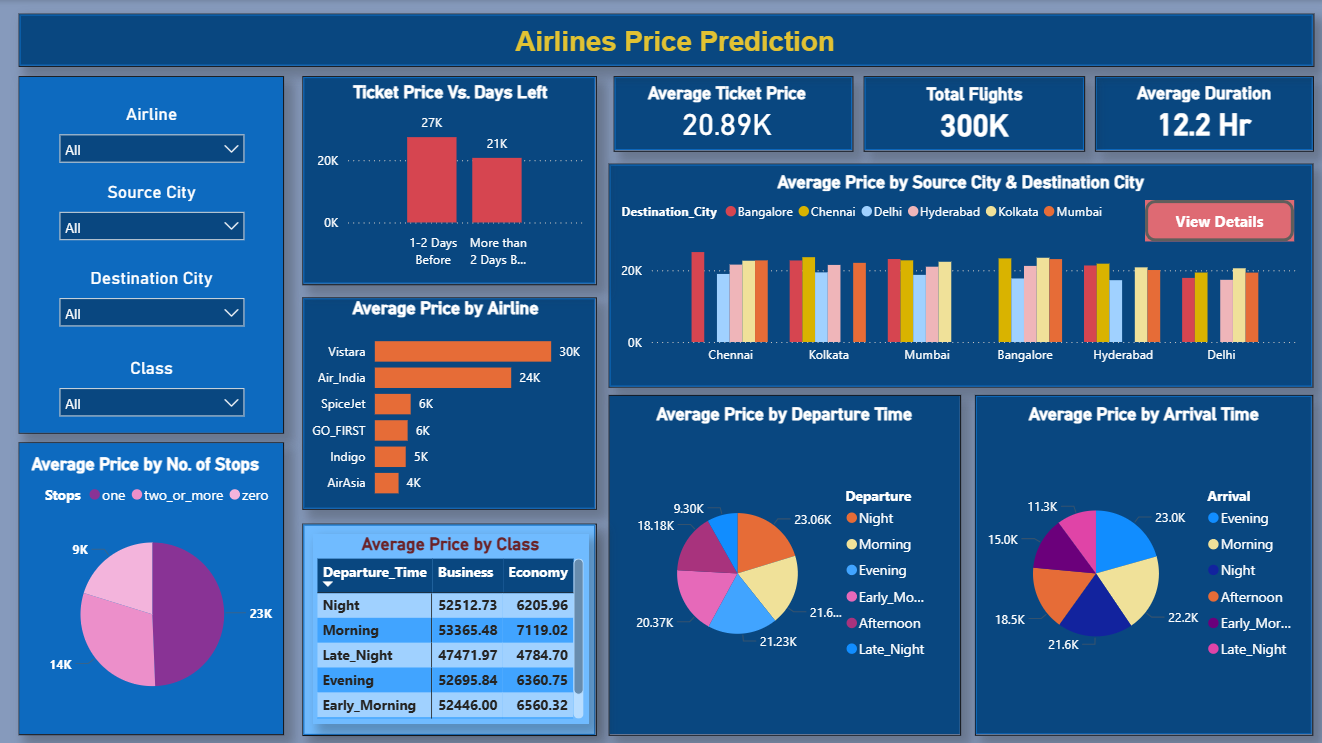

Layout of this report page (visuals, bound fields, positions):
{"tool":"powerbi","page":{"name":"Detailed Dashboard","canvas":[1280,720],"ordinal":0},"visuals":[{"type":"shape","box":[592.5,73.8,231.2,72.5],"z":0},{"type":"card","title":"Average Ticket Price","fields":{"Values":["Avg(Clean_Dataset.price)"]},"box":[611.2,80,180,58.8],"z":1000},{"type":"shape","box":[1056.2,73.8,211.2,72.5],"z":2000},{"type":"shape","box":[833.8,73.8,213.8,72.5],"z":3000},{"type":"shape","box":[17.5,13.8,1250,51.2],"z":4000},{"type":"shape","box":[17.5,73.8,256.2,345],"z":5000},{"type":"shape","box":[292.5,287.5,283.8,205],"z":6000},{"type":"shape","box":[587.5,157.5,680,216.2],"z":7000},{"type":"shape","box":[292.5,73.8,283.8,201.2],"z":8000},{"type":"shape","box":[587.5,381.2,340,328.8],"z":9000},{"type":"shape","box":[941.2,381.2,326.2,328.8],"z":10000},{"type":"shape","box":[292.5,505,283.8,205],"z":11000},{"type":"shape","box":[17.5,427.5,256.2,282.5],"z":12000},{"type":"card","title":"Total Flights","fields":{"Values":["CountNonNull(Clean_Dataset.flight)"]},"box":[867.5,81.2,146.2,57.5],"z":13000},{"type":"card","title":"Average Duration","fields":{"Values":["Clean_Dataset.Average Duration"]},"box":[1085,80,155,58.8],"z":14000},{"type":"slicer","title":"Class","fields":{"Values":["Clean_Dataset.class"]},"box":[47.5,345,198.8,57.5],"z":15000},{"type":"slicer","title":"Destination City","fields":{"Values":["Clean_Dataset.destination_city"]},"box":[47.5,258.8,198.8,57.5],"z":16000},{"type":"slicer","title":"Source City","fields":{"Values":["Clean_Dataset.source_city"]},"box":[47.5,175,198.8,57.5],"z":17000},{"type":"slicer","title":"Airline","fields":{"Values":["Clean_Dataset.airline"]},"box":[47.5,100,198.8,57.5],"z":18000},{"type":"clusteredBarChart","title":"Average Price by Airline","fields":{"Category":["Clean_Dataset.airline"],"Y":["Avg(Clean_Dataset.price)"]},"box":[292.5,287.5,276.2,205],"z":19000},{"type":"clusteredColumnChart","title":"Ticket Price Vs. Days Left","fields":{"Category":["Clean_Dataset.Booking_Category"],"Y":["Avg(Clean_Dataset.price)"]},"box":[301.2,78.8,266.2,187.5],"z":20000},{"type":"clusteredColumnChart","title":"Average Price by Source City & Destination City","fields":{"Category":["Clean_Dataset.source_city"],"Series":["Clean_Dataset.destination_city"],"Y":["Avg(Clean_Dataset.price)"]},"box":[595,165,665,195],"z":21000},{"type":"textbox","box":[447.5,20,407.5,40],"z":24000},{"type":"pieChart","title":"Average Price by Departure Time","fields":{"Category":["Clean_Dataset.departure_time"],"Y":["Avg(Clean_Dataset.price)"]},"box":[603.8,390,307.5,308.8],"z":25000},{"type":"pieChart","title":"Average Price by Arrival Time","fields":{"Category":["Clean_Dataset.arrival_time"],"Y":["Avg(Clean_Dataset.price)"]},"box":[946.2,390,316.2,308.8],"z":26000},{"type":"pivotTable","title":"Average Price by Class","fields":{"Values":["Avg(Clean_Dataset.price)"],"Rows":["Clean_Dataset.departure_time"],"Columns":["Clean_Dataset.class"]},"box":[301.2,515,266.2,183.8],"z":26500},{"type":"pieChart","title":"Average Price by No. of Stops","fields":{"Category":["Clean_Dataset.stops"],"Y":["Avg(Clean_Dataset.price)"]},"box":[25,437.5,243.8,261.2],"z":27000},{"type":"actionButton","box":[1105,192.5,143.8,40],"z":27501}]}

Visuals, with their boxes in screenshot pixels (x1, y1, x2, y2), scaled from the page's 1280x720 canvas onto the 1322x743 screenshot:
shape: l=612, t=76, r=851, b=151
"Average Ticket Price" card: l=631, t=83, r=817, b=143
shape: l=1091, t=76, r=1309, b=151
shape: l=861, t=76, r=1082, b=151
shape: l=18, t=14, r=1309, b=67
shape: l=18, t=76, r=283, b=432
shape: l=302, t=297, r=595, b=508
shape: l=607, t=163, r=1309, b=386
shape: l=302, t=76, r=595, b=284
shape: l=607, t=393, r=958, b=733
shape: l=972, t=393, r=1309, b=733
shape: l=302, t=521, r=595, b=733
shape: l=18, t=441, r=283, b=733
"Total Flights" card: l=896, t=84, r=1047, b=143
"Average Duration" card: l=1121, t=83, r=1281, b=143
"Class" slicer: l=49, t=356, r=254, b=415
"Destination City" slicer: l=49, t=267, r=254, b=326
"Source City" slicer: l=49, t=181, r=254, b=240
"Airline" slicer: l=49, t=103, r=254, b=163
"Average Price by Airline" clusteredBarChart: l=302, t=297, r=587, b=508
"Ticket Price Vs. Days Left" clusteredColumnChart: l=311, t=81, r=586, b=275
"Average Price by Source City & Destination City" clusteredColumnChart: l=615, t=170, r=1301, b=372
textbox: l=462, t=21, r=883, b=62
"Average Price by Departure Time" pieChart: l=624, t=402, r=941, b=721
"Average Price by Arrival Time" pieChart: l=977, t=402, r=1304, b=721
"Average Price by Class" pivotTable: l=311, t=531, r=586, b=721
"Average Price by No. of Stops" pieChart: l=26, t=451, r=278, b=721
actionButton: l=1141, t=199, r=1290, b=240
